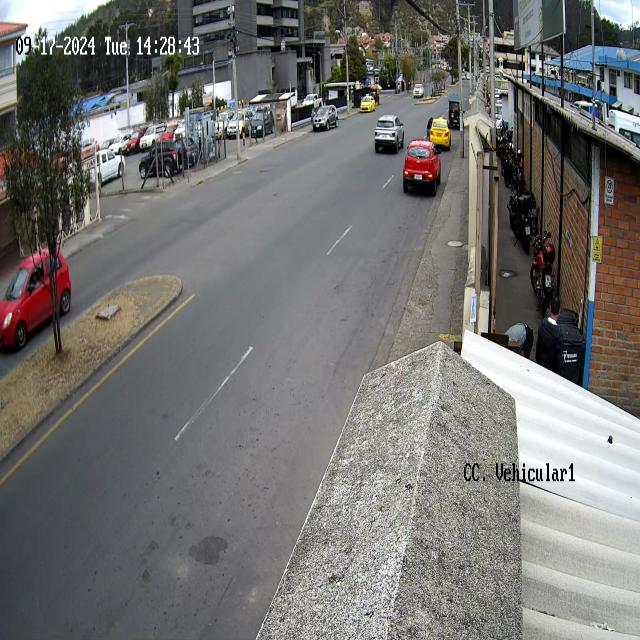SED: (0, 243, 73, 347), (430, 116, 451, 151), (360, 94, 375, 113)
SUV: (403, 139, 441, 195), (374, 115, 404, 154), (312, 105, 339, 132)
